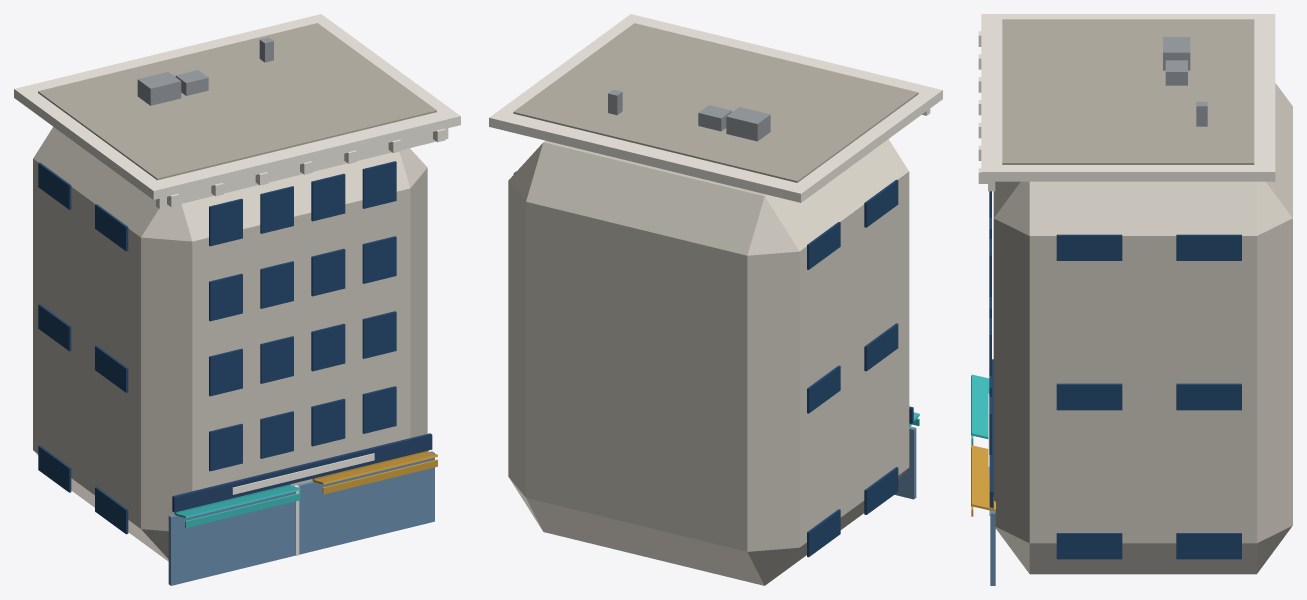
The model's file is mixed_w14_f5_punched.glb.
3 views of the same model, side by side, from view 1: azimuth 30°, elevation 25°; view 2: azimuth 150°, elevation 25°; view 3: azimuth 270°, elevation 25° (orthographic). The views are drawn at different scales.
Visible parts, largest first — view 1: walls, roofslab, shopglass, corn, fascia, frieze, win.002, win.003, win.007, win.011, win.006, win.010 (+23 smaller); view 2: walls, roofslab, corn, hvac, sb, sb.004, sb.008, sb.006, sb.002, sb.010, shopglass, hvac2; view 3: walls, roofslab, corn, sb.005, sb.007, sb.001, sb.009, sb.003, sb.011, awn.001, awn, hvac (+3 smaller).
Boxes of the visible parts, x1,y1,x2,y2 form: walls: (33, 127, 427, 561); roofslab: (38, 23, 436, 180); shopglass: (168, 451, 434, 585); corn: (14, 14, 460, 199); fascia: (172, 433, 432, 512); frieze: (156, 128, 448, 208); win.002: (311, 398, 345, 446); win.003: (362, 386, 396, 433); win.007: (362, 311, 396, 358); win.011: (362, 236, 396, 283); win.006: (311, 323, 345, 371); win.010: (311, 248, 345, 296); walls: (508, 139, 909, 585); roofslab: (513, 23, 918, 182); corn: (489, 14, 942, 202); hvac: (726, 107, 770, 141); sb: (864, 467, 898, 514); sb.004: (864, 323, 898, 371); sb.008: (864, 179, 898, 227); sb.006: (807, 365, 840, 413); sb.002: (807, 509, 840, 557); sb.010: (807, 222, 840, 269); shopglass: (894, 426, 916, 499); hvac2: (698, 105, 731, 131); walls: (993, 83, 1292, 574); roofslab: (1002, 19, 1254, 164); corn: (981, 14, 1275, 181); sb.005: (1056, 383, 1122, 410); sb.007: (1176, 383, 1241, 410); sb.001: (1056, 533, 1122, 559); sb.009: (1056, 234, 1122, 260); sb.003: (1176, 533, 1241, 559); sb.011: (1176, 234, 1241, 260); awn.001: (971, 445, 995, 510); awn: (971, 374, 989, 438); hvac: (1163, 37, 1190, 70).
Size of the model in its own units: 15 by 19.8 by 12.91.
